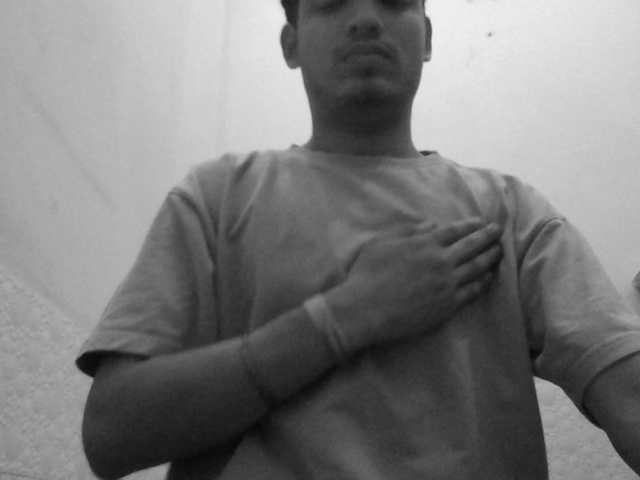Sorry: (340, 166, 545, 337)
